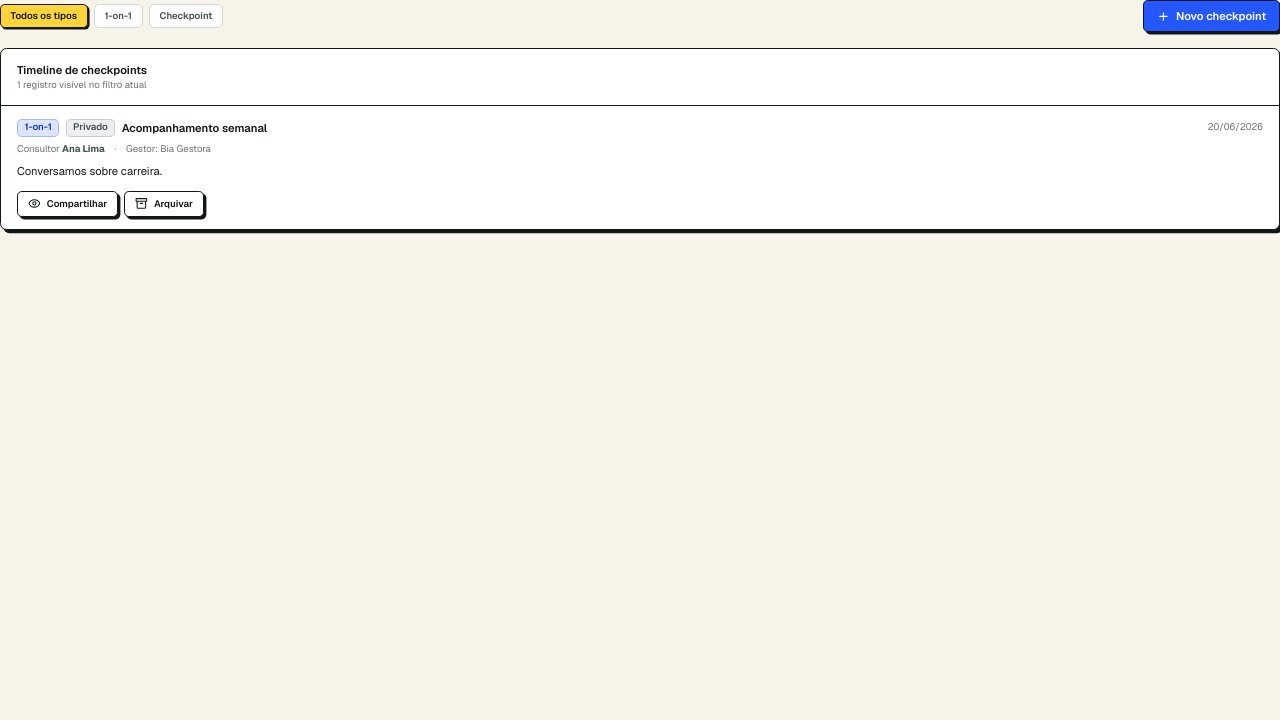
Visibility toggle › flips PRIVATE -> SHARED and reflects the new badge in the card
The image size is (1280, 720).
What coordinates should you click on to do the following:
click the button "Compartilhar"
I would click on:
 (67, 204)
Its box is left=17, top=191, right=118, bottom=217.
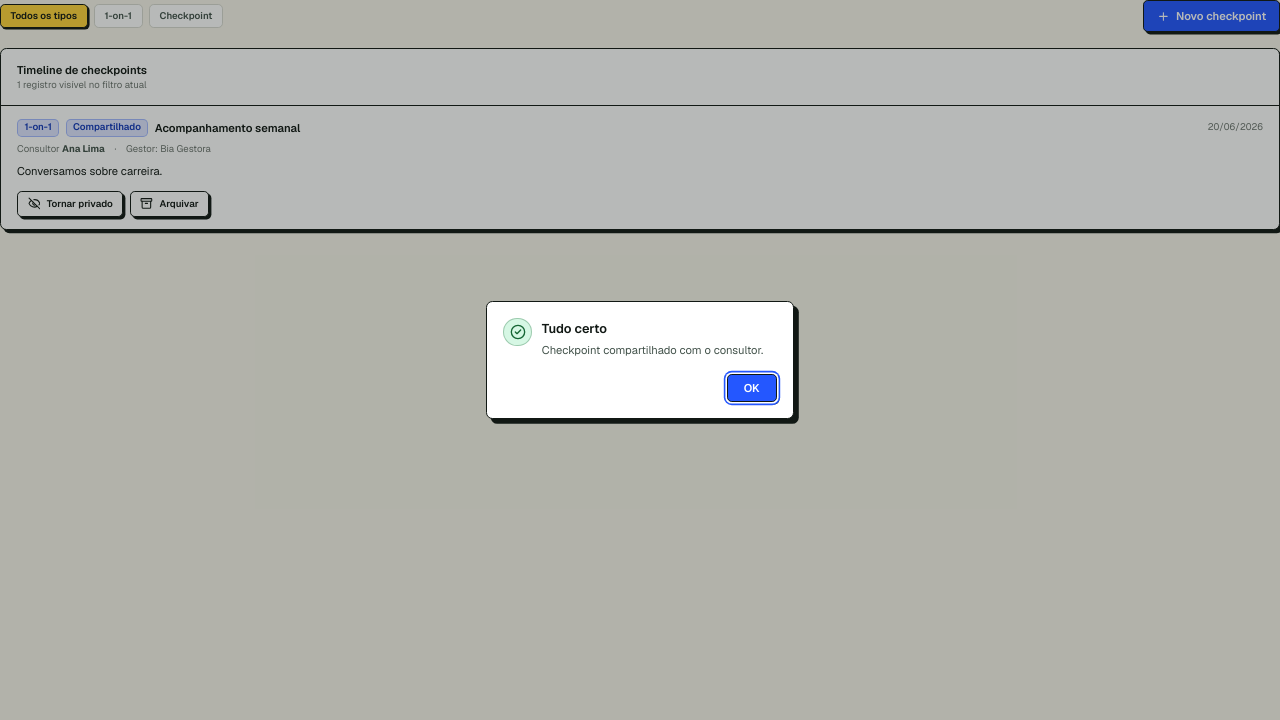
Expected: the text "Compartilhado" is shown, left=66, top=119, right=148, bottom=137
